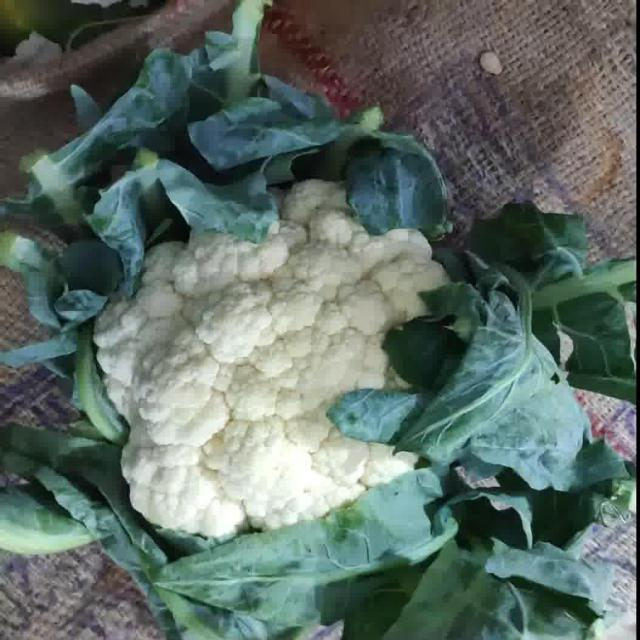Cauliflower: (96, 180, 449, 539)
